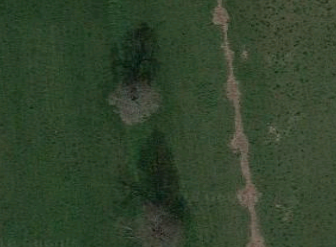tree: (105, 79, 178, 124)
